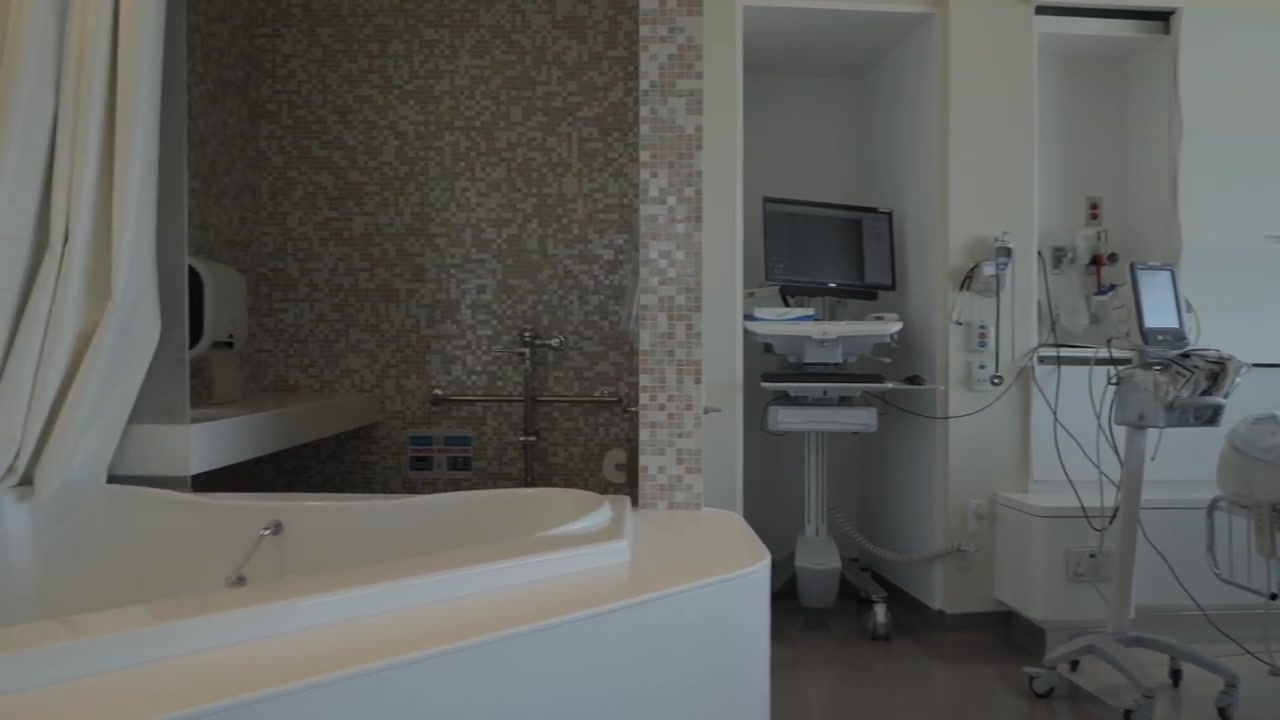bedrail: (1211, 501, 1280, 602)
bedside_monitor: (1127, 260, 1192, 355)
cabinet: (1155, 37, 1275, 365)
computer: (763, 195, 898, 296)
counter: (111, 388, 378, 473)
countertop: (122, 382, 327, 428)
curtain: (1, 1, 168, 506)
dispenser: (185, 256, 251, 360), (594, 447, 633, 496)
handle: (1259, 230, 1277, 248)
hospital_bed: (1201, 404, 1280, 622)
keyboard: (759, 368, 885, 384)
mouse: (901, 373, 925, 386)
restroom_assist_bar: (217, 512, 294, 583), (426, 387, 626, 405)
sink: (175, 401, 247, 427)
toilet_handle: (490, 325, 568, 373)
